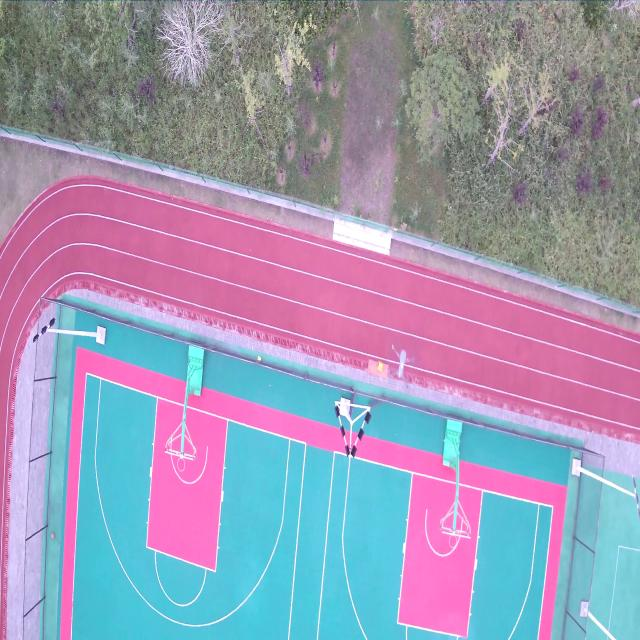UAV: (387, 343, 415, 388)
